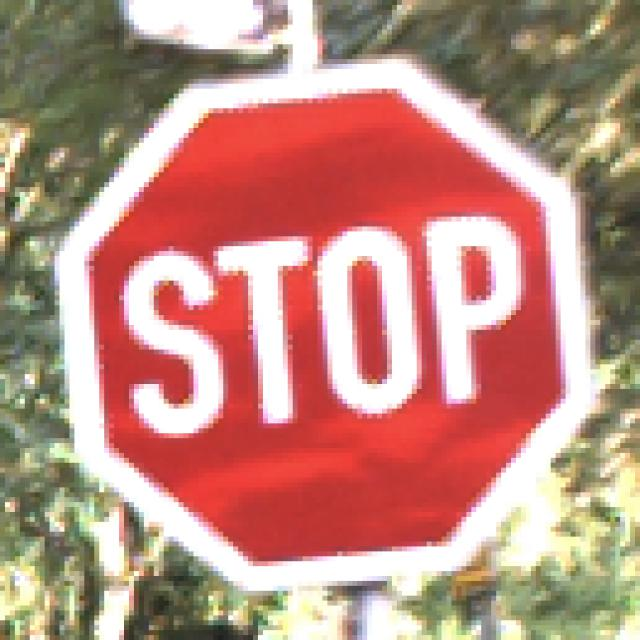STOP: (56, 60, 587, 587)
